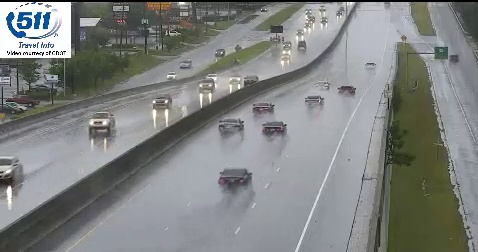car: (218, 168, 252, 190), (218, 117, 244, 134), (262, 121, 286, 138), (252, 101, 273, 115), (304, 94, 323, 108), (338, 85, 355, 97)
